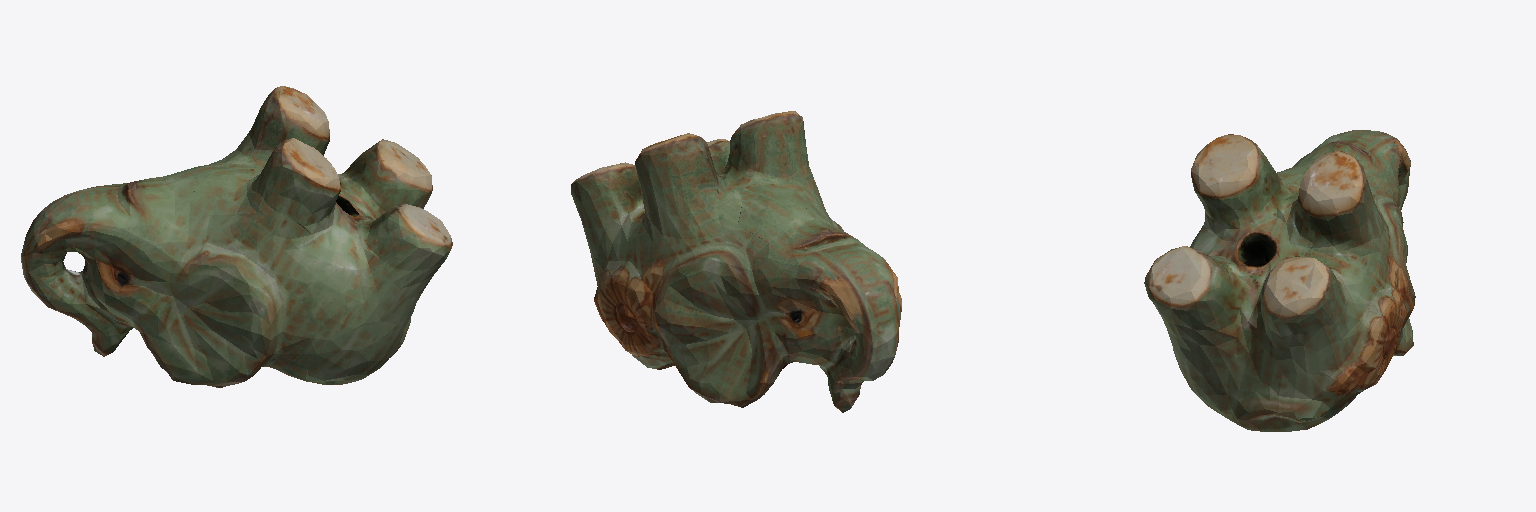
The picture shows the model from 3 angles: view 1: azimuth 30°, elevation 25°; view 2: azimuth 150°, elevation 25°; view 3: azimuth 270°, elevation 25°; orthographic projection.
Bounding box in the file's own units: 1.79 × 1.23 × 1.16.
Materials: 1 (1 with a texture image).